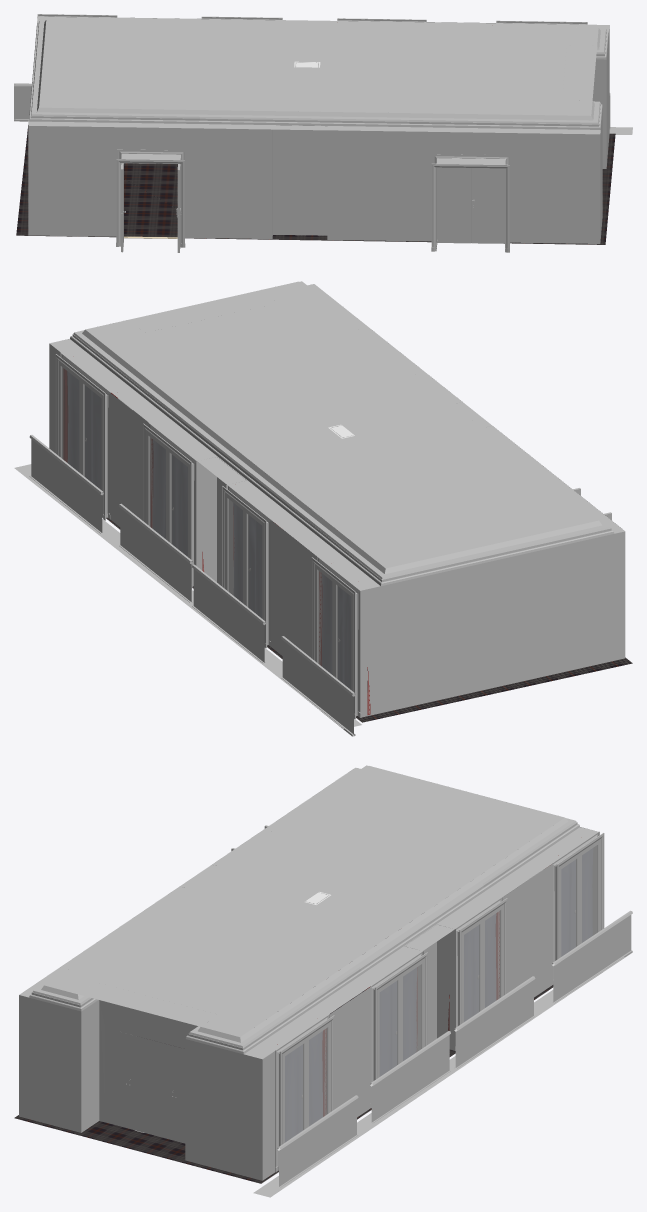
Rendered from SDL_SalonDelibes.fbx.
3 views of the same model, one above another, from view 1: azimuth 30°, elevation 25°; view 2: azimuth 150°, elevation 25°; view 3: azimuth 270°, elevation 25° (orthographic). The views are drawn at different scales.
Parts seen in each view (by area): view 1: polySurface128, polySurface126, polySurface127; view 2: polySurface128, polySurface126, polySurface13_2, polySurface127; view 3: polySurface128, polySurface13_2, polySurface126, polySurface127.
Boxes of the visible parts, left/top/right/bottom form: polySurface128: left=14, top=16, right=632, bottom=244; polySurface126: left=37, top=14, right=587, bottom=252; polySurface127: left=29, top=20, right=608, bottom=129; polySurface128: left=14, top=281, right=632, bottom=736; polySurface126: left=55, top=352, right=611, bottom=719; polySurface13_2: left=62, top=367, right=351, bottom=689; polySurface127: left=70, top=281, right=614, bottom=585; polySurface128: left=14, top=766, right=632, bottom=1197; polySurface13_2: left=285, top=845, right=597, bottom=1142; polySurface126: left=231, top=825, right=604, bottom=1172; polySurface127: left=29, top=765, right=579, bottom=1054.
Bounding box in the file's own units: 1588 × 323 × 1333.
